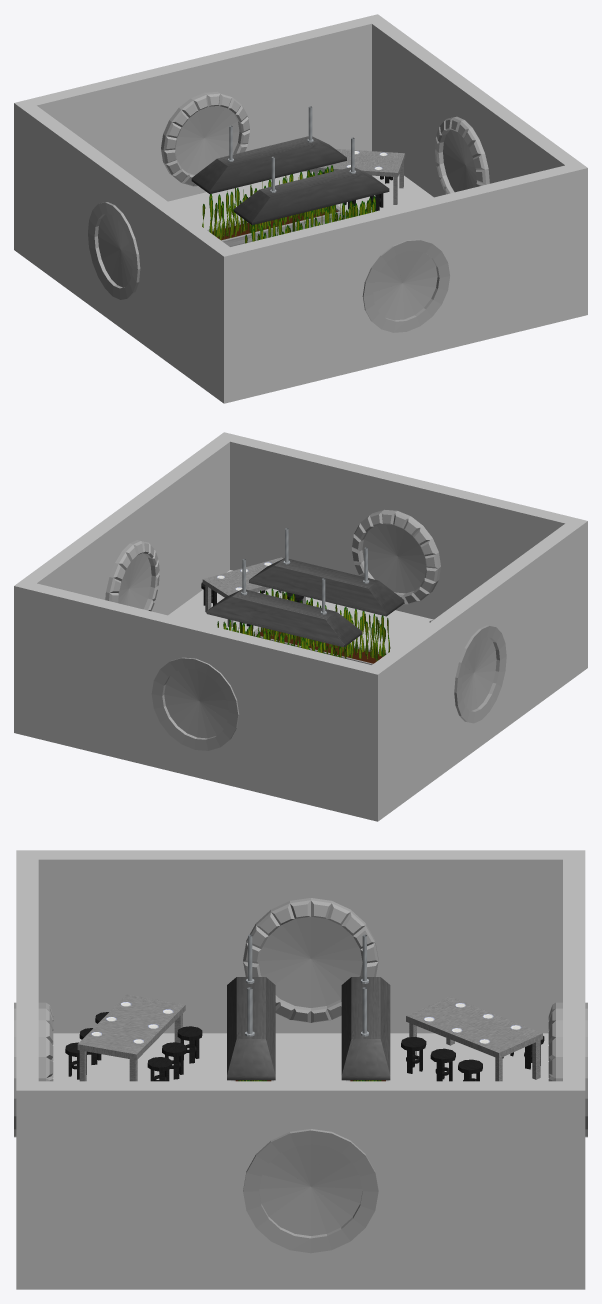
Rendered from food_room_baseMesh.fbx.
3 views of the same model, one above another, from view 1: azimuth 30°, elevation 25°; view 2: azimuth 150°, elevation 25°; view 3: azimuth 270°, elevation 25° (orthographic). The views are drawn at different scales.
Parts seen in each view (by area): view 1: room_base, door_north, door_south, plant_table:pCube1, pCube1, door_east, door_west, table3, plant_dirtContainer; view 2: room_base, door_south, door_north, pCube1, plant_table:pCube1, door_east, door_west, table2, plant_table:plant_dirtContainer; view 3: room_base, door_west, door_east, pCube1, table4, plant_table:pCube1, table, door_north, door_south, chair8, chair9, chair7 (+1 smaller).
Part boxes in pixels (box(x1,y1,x2,y2)): room_base: box(14, 14, 587, 403); door_north: box(362, 239, 449, 332); door_south: box(161, 91, 249, 186); plant_table:pCube1: box(234, 167, 389, 225); pCube1: box(191, 136, 346, 193); door_east: box(88, 202, 140, 299); door_west: box(435, 116, 489, 194); table3: box(305, 148, 405, 204); plant_dirtContainer: box(207, 204, 345, 246); room_base: box(14, 432, 587, 821); door_south: box(151, 657, 239, 750); door_north: box(351, 509, 440, 604); pCube1: box(206, 589, 361, 647); plant_table:pCube1: box(249, 558, 404, 616); door_east: box(454, 625, 506, 723); door_west: box(105, 540, 159, 611); table2: box(202, 557, 305, 627); plant_table:plant_dirtContainer: box(253, 627, 387, 664); room_base: box(16, 850, 585, 1289); door_west: box(243, 1129, 378, 1253); door_east: box(243, 898, 378, 1022); pCube1: box(341, 977, 390, 1080); table4: box(406, 996, 542, 1081); plant_table:pCube1: box(227, 977, 275, 1080); table: box(77, 994, 185, 1081); door_north: box(14, 1002, 53, 1137); door_south: box(548, 1002, 587, 1137); chair8: box(401, 1037, 426, 1073); chair9: box(430, 1048, 455, 1081); chair7: box(177, 1026, 202, 1063).
Bounding box in the file's own units: 20.48 × 7.96 × 20.38.
